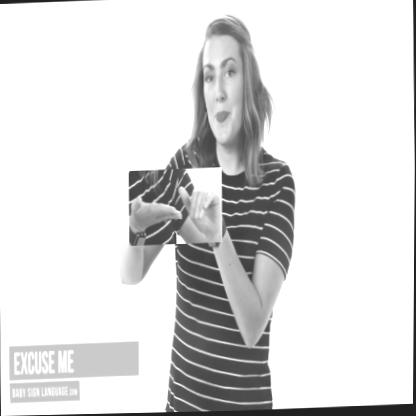ExcuseMe: (128, 168, 223, 246)
